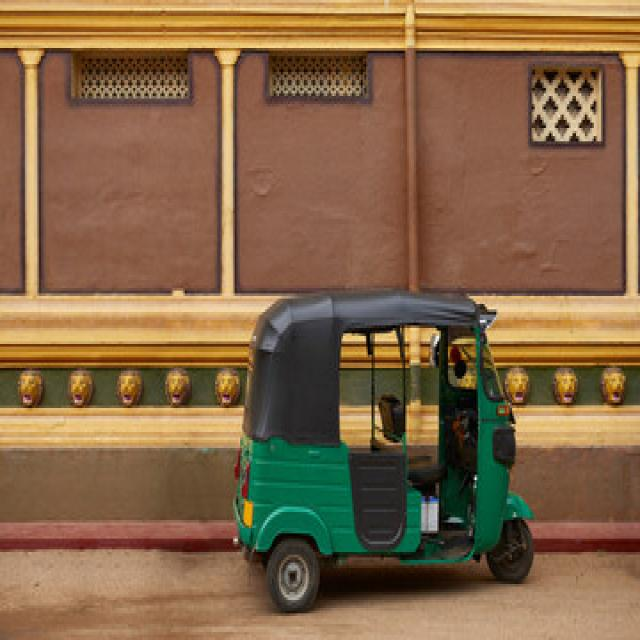three wheeler: (235, 291, 532, 611)
